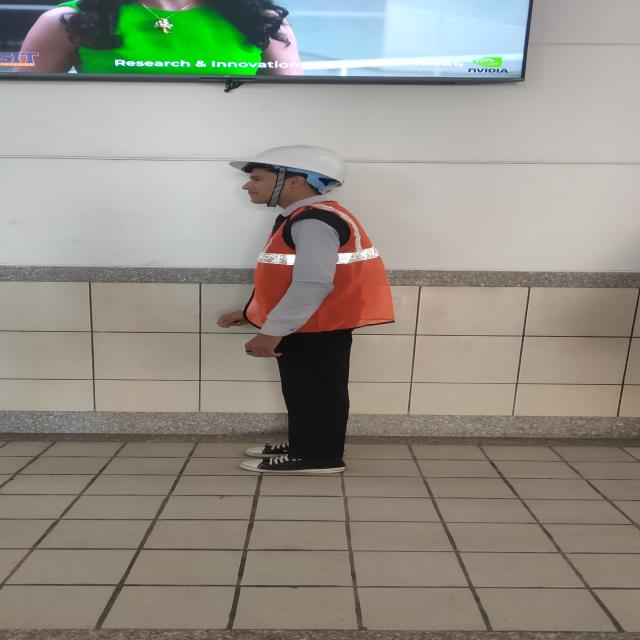safe: (218, 145, 394, 473)
